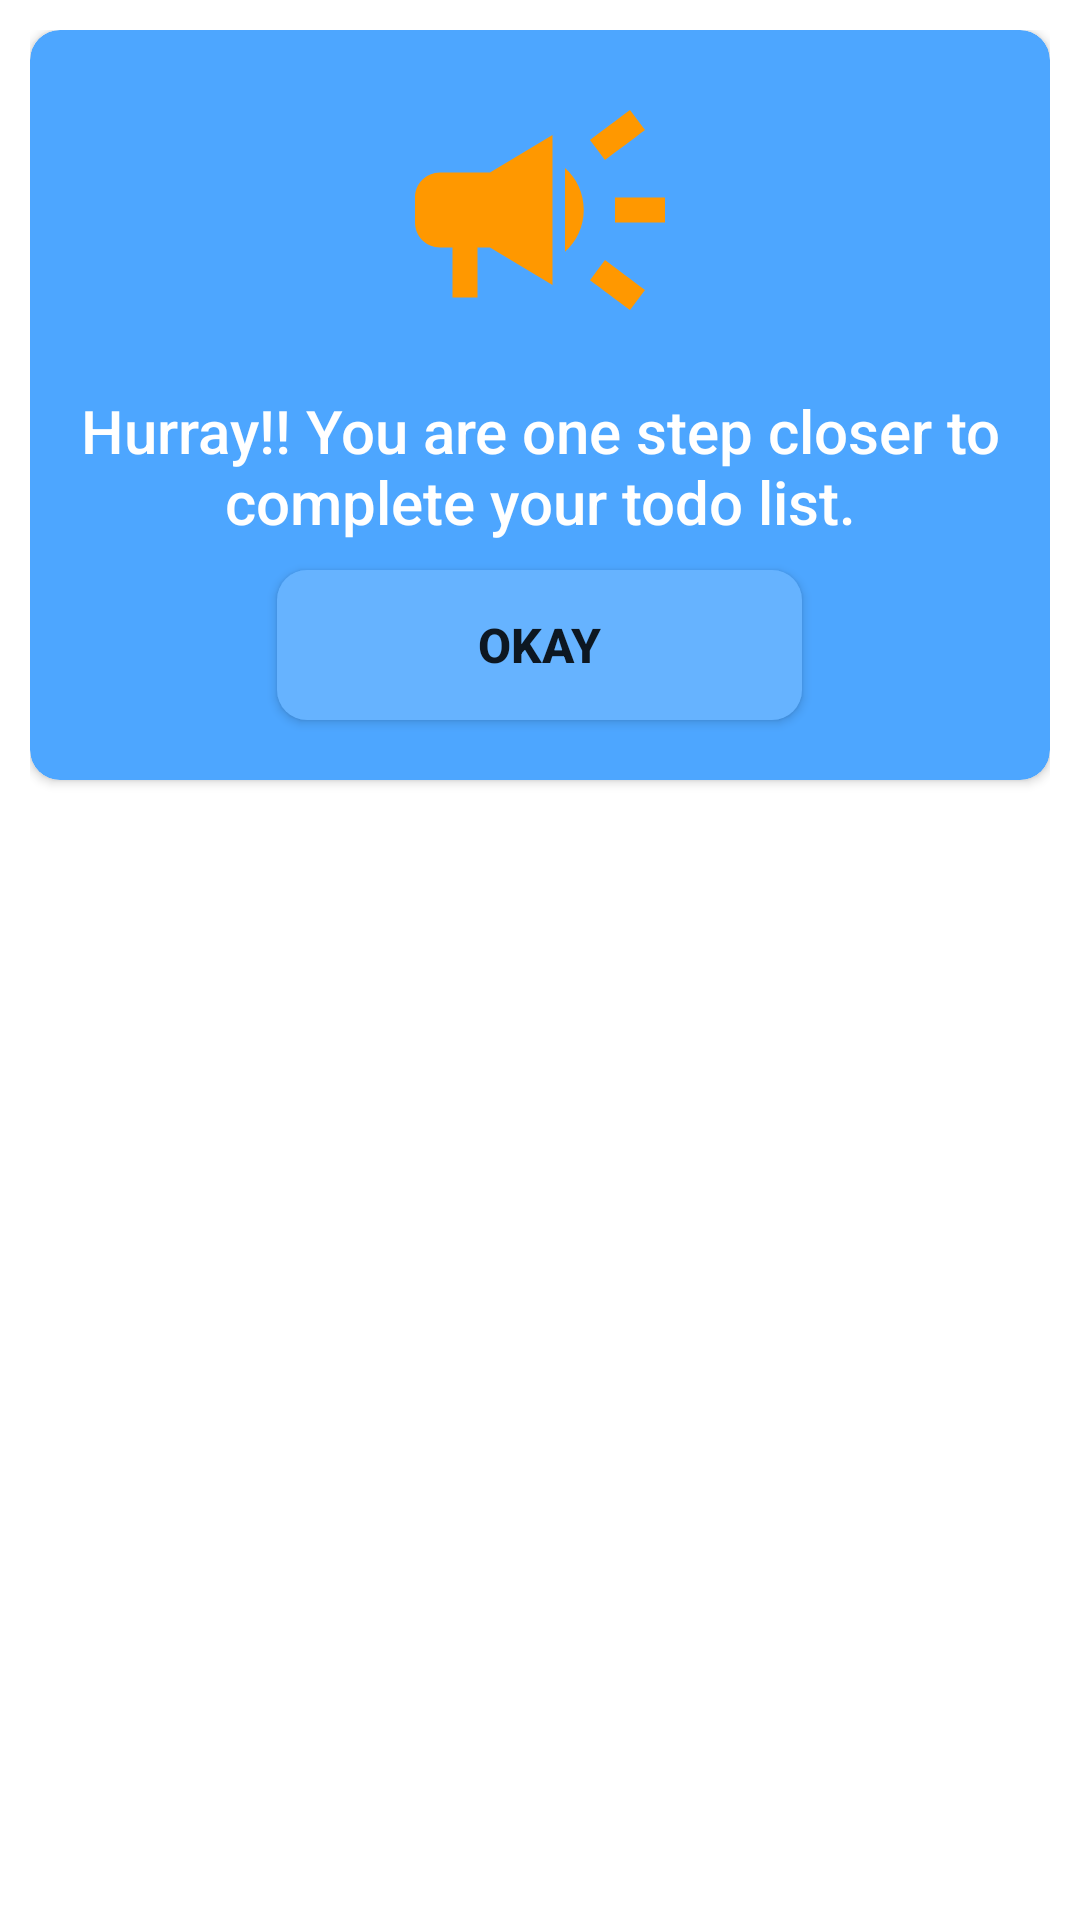

Where to tap for icons on this 1080px×1920px app screen, as (x=x, y=y):
campaign: (x=540, y=210)
